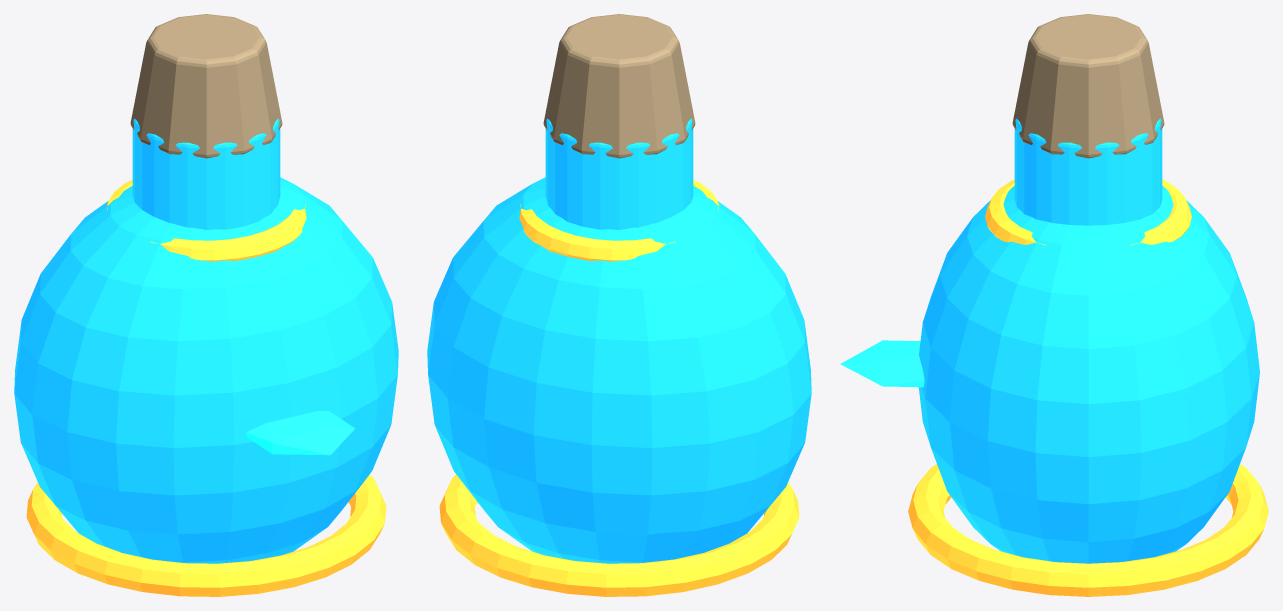
Rendered from small_protection_potion.glb.
The picture shows the model from 3 angles, left to right: view 1: azimuth 30°, elevation 25°; view 2: azimuth 150°, elevation 25°; view 3: azimuth 270°, elevation 25°; orthographic projection.
Visible parts, largest first — view 1: Bottle.002, Cork.002, Torus.008, Neck.002, ShieldGem.002, Torus.007; view 2: Bottle.002, Cork.002, Torus.008, Neck.002, Torus.007; view 3: Bottle.002, Cork.002, Torus.008, Neck.002, Torus.007, ShieldGem.002.
Part boxes in pixels (x1,y1,x2,y2): Bottle.002: (14,177,398,563); Cork.002: (130,14,282,158); Torus.008: (26,474,386,596); Neck.002: (132,118,280,229); ShieldGem.002: (246,411,354,455); Torus.007: (106,180,306,261); Bottle.002: (427,177,811,563); Cork.002: (543,14,695,158); Torus.008: (439,474,799,596); Neck.002: (545,118,693,229); Torus.007: (519,180,719,261); Bottle.002: (918,186,1259,563); Cork.002: (1012,14,1164,158); Torus.008: (908,464,1268,596); Neck.002: (1014,118,1162,225); Torus.007: (985,179,1191,245); ShieldGem.002: (840,340,924,387).
Size of the model in its own units: 1.36 by 1.97 by 1.45.
